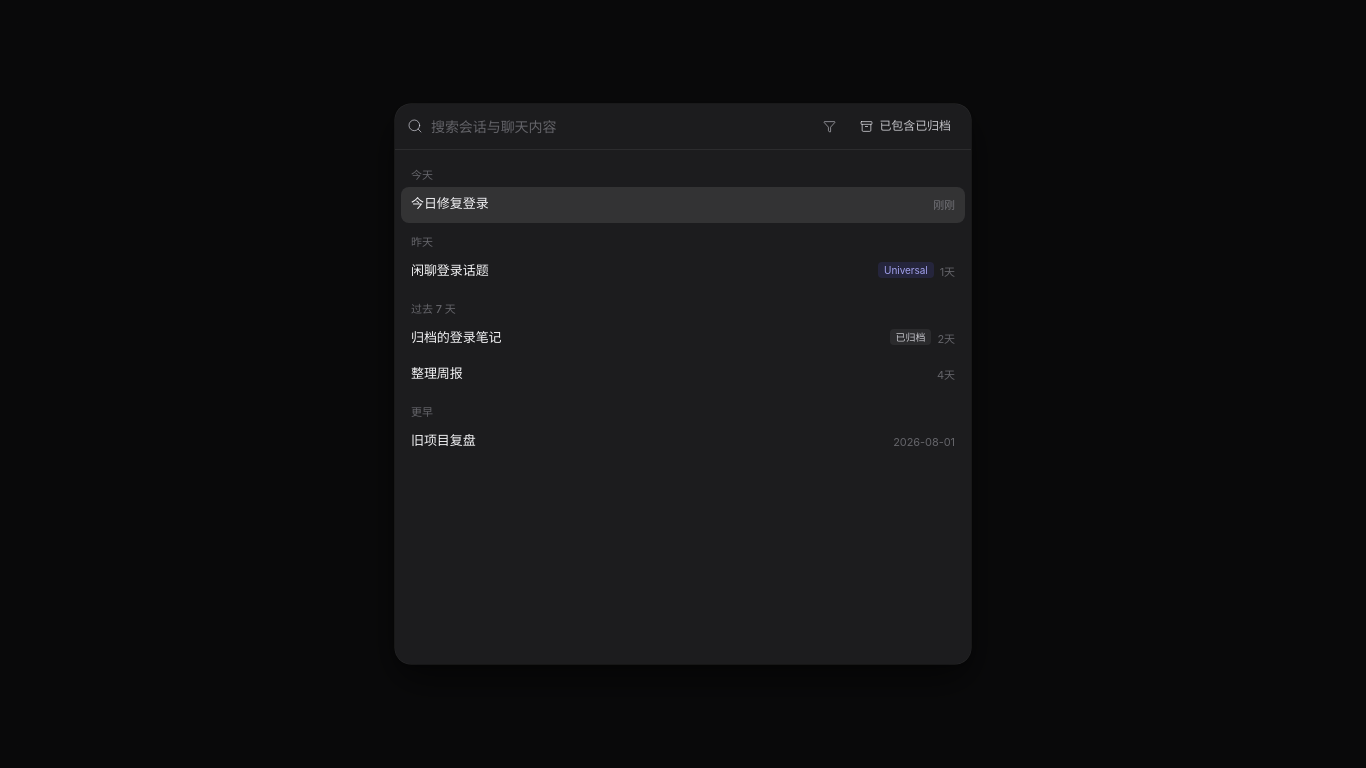
it: typing › discards a stale response that resolves after a newer query's
Type "旧" into the dropdown labelled "搜索会话". click: (619,126)
box: top-left (431, 117), bottom-right (807, 136)
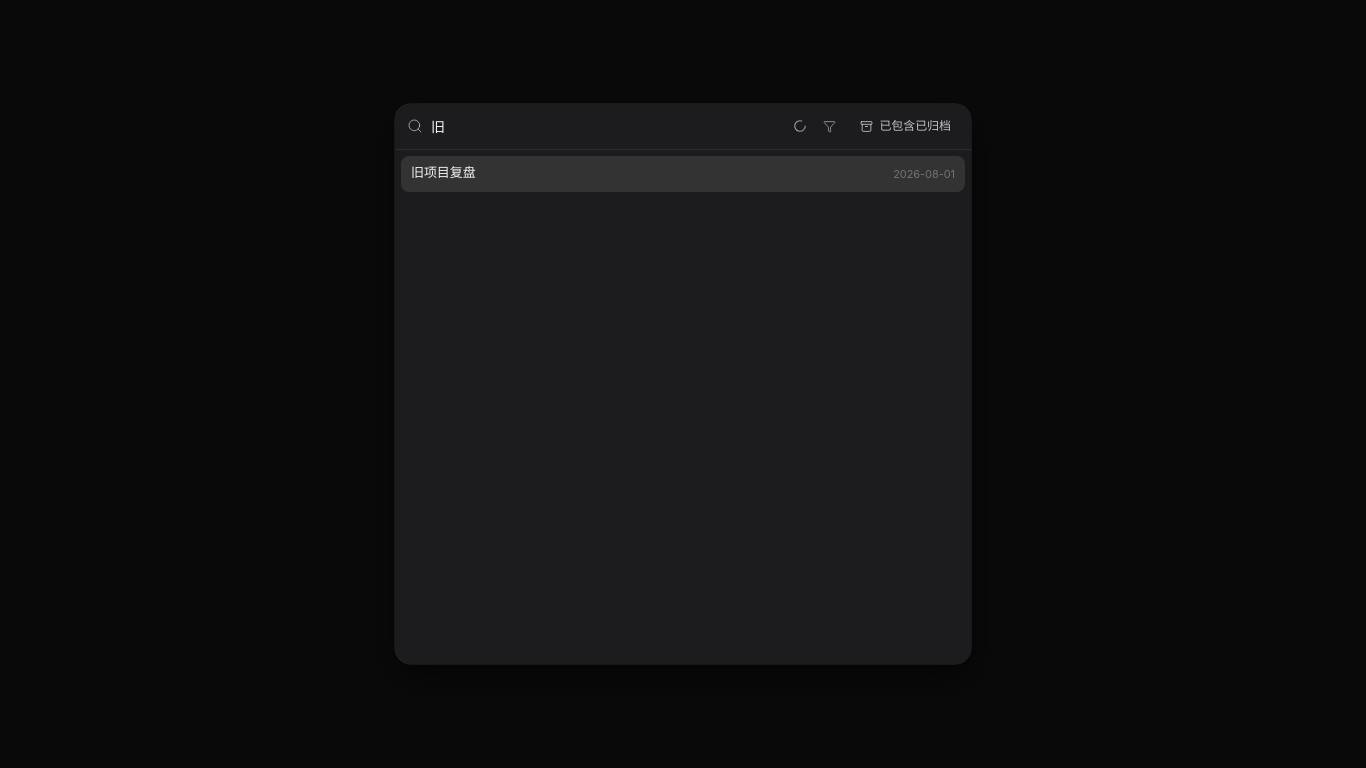
Replace the text in the dropdown named "搜索会话" with "旧项". click: (608,126)
box: top-left (431, 117), bottom-right (785, 136)
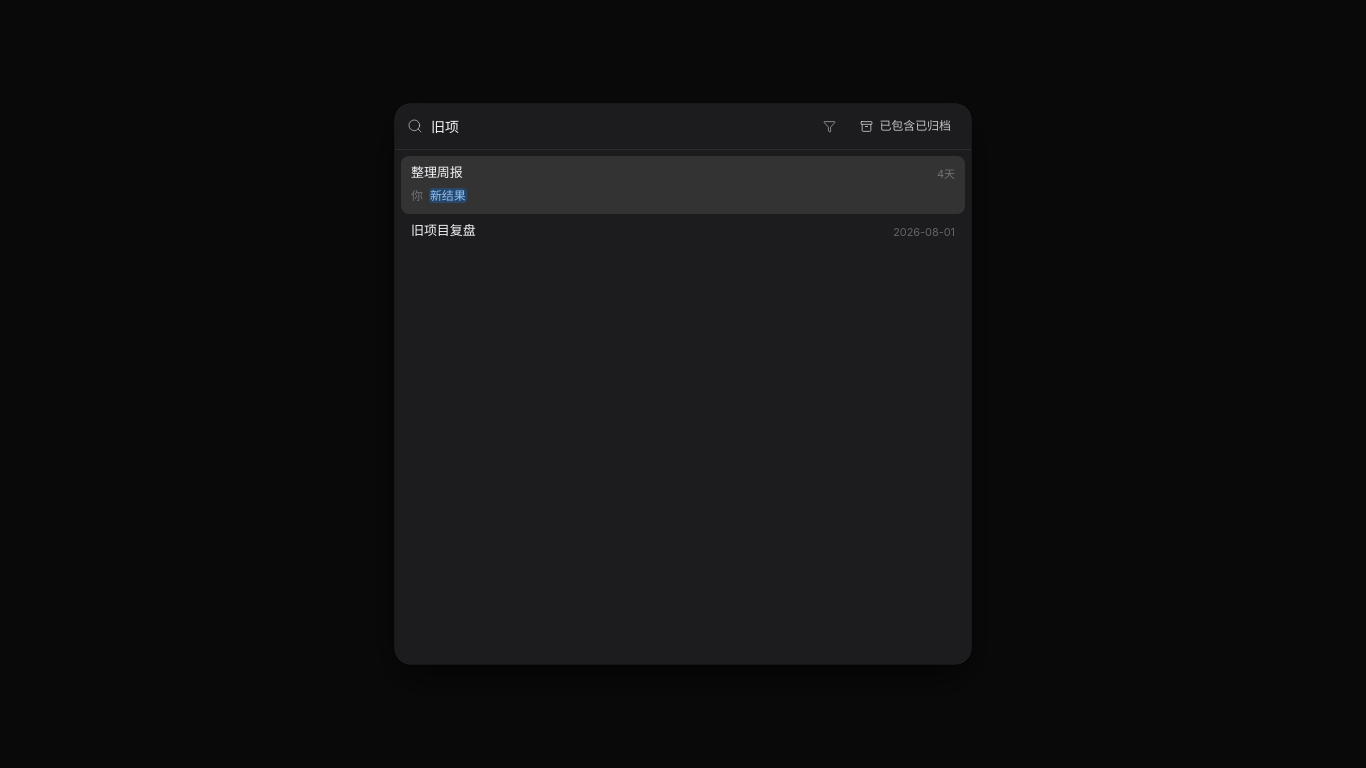
Expected: the text "新结果" is shown, top-left (429, 188), bottom-right (467, 203)
